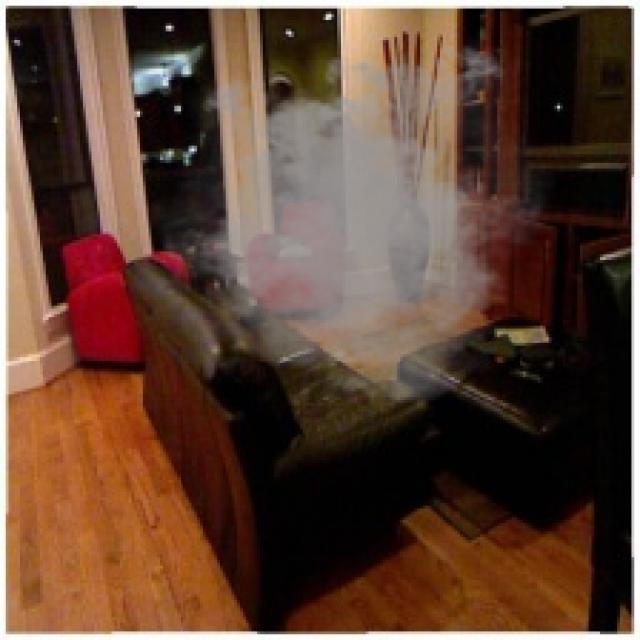Smoke: (140, 34, 566, 409)
